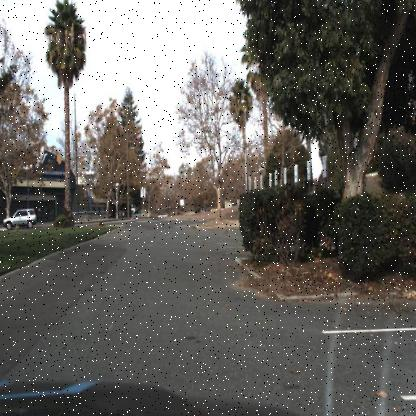car: (1, 205, 39, 232)
